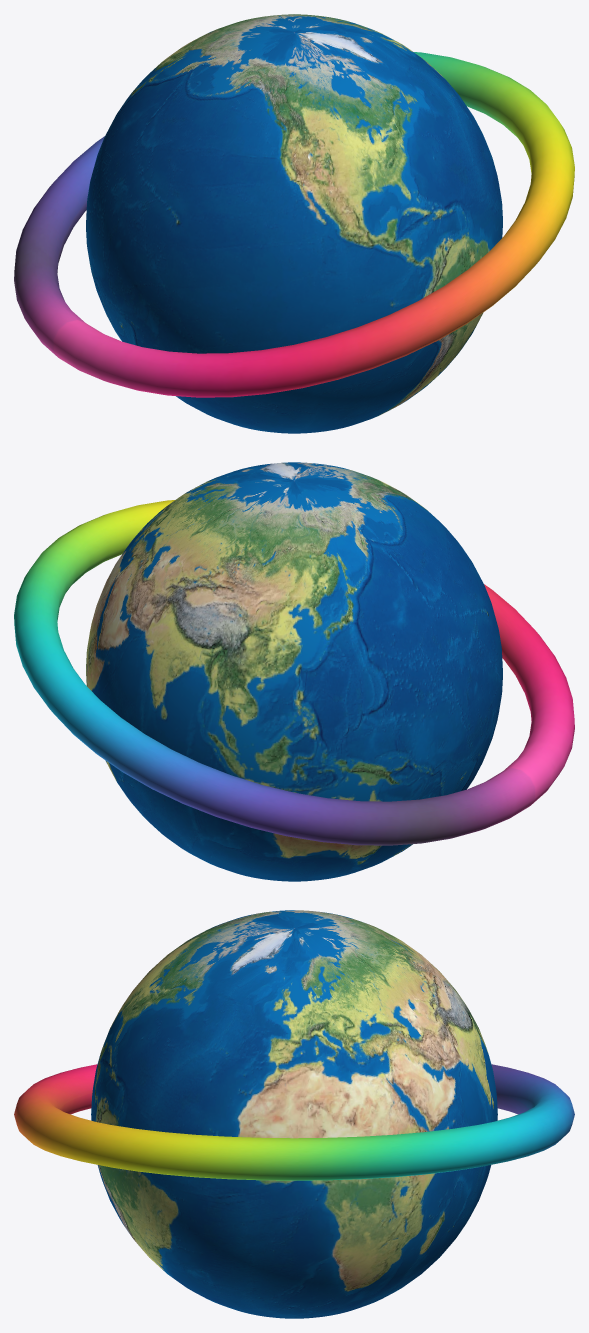
Rendered from EarthRainbow.glb.
3 views of the same model, one above another, from view 1: azimuth 30°, elevation 25°; view 2: azimuth 150°, elevation 25°; view 3: azimuth 270°, elevation 25° (orthographic). The views are drawn at different scales.
Visible parts, largest first — view 1: Sphere, Torus.001; view 2: Sphere, Torus.001; view 3: Sphere, Torus.001.
Part boxes in pixels (left/top/right/bottom): Sphere: left=86, top=14, right=502, bottom=433; Torus.001: left=14, top=52, right=574, bottom=397; Sphere: left=86, top=462, right=502, bottom=881; Torus.001: left=14, top=500, right=574, bottom=845; Sphere: left=91, top=910, right=497, bottom=1318; Torus.001: left=14, top=1064, right=574, bottom=1180.
Size of the model in its own units: 12.56 by 9.52 by 13.
2 materials, 2 textured.
